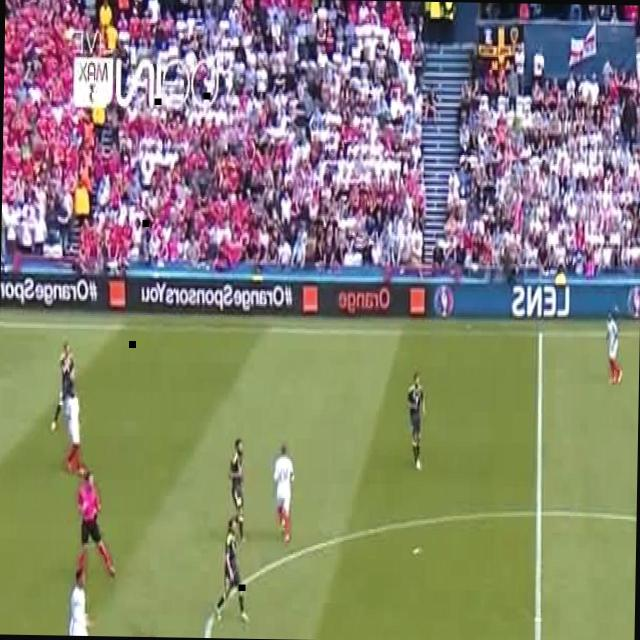player-white: (77, 472, 119, 580), (215, 518, 250, 626), (55, 568, 98, 636), (52, 343, 78, 433), (272, 446, 295, 544), (64, 387, 88, 479), (406, 372, 428, 472), (227, 438, 247, 544), (604, 312, 624, 385)
